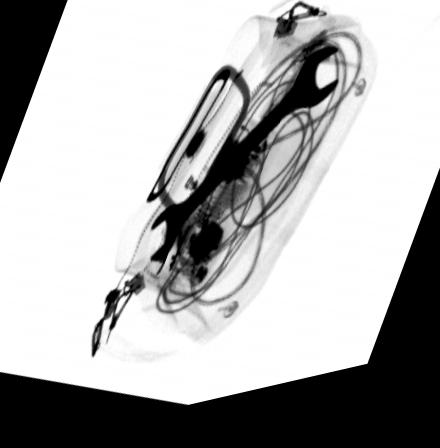Wrench: (145, 58, 342, 271)
